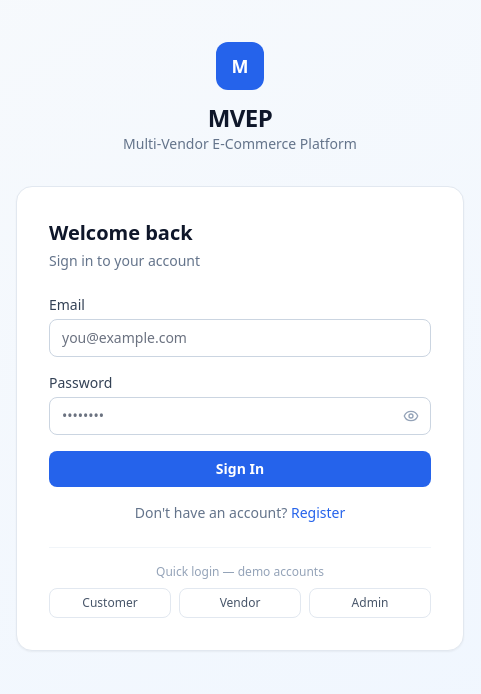
Test: LoginPage › shows API error message on wrong credentials
The image size is (481, 694).
Type "wrong@example.com" into the field with placeholder "you@example.com" at (240,338), box 49,318 -> 431,356
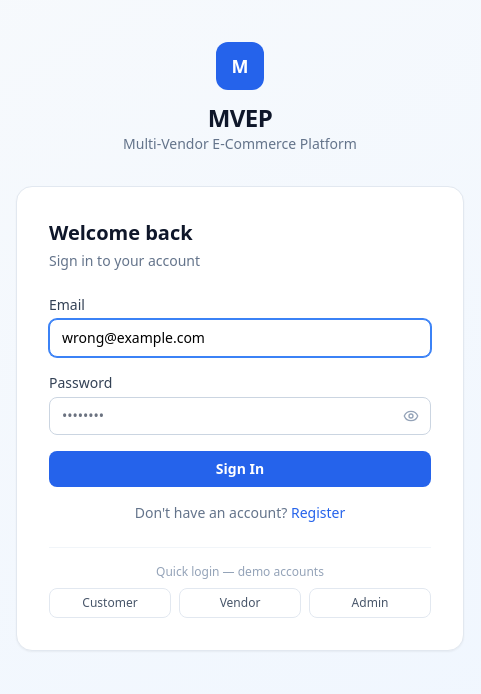
Type "wrongpassword" into the password field with placeholder "••••••••" at (240,416), box 49,396 -> 431,434
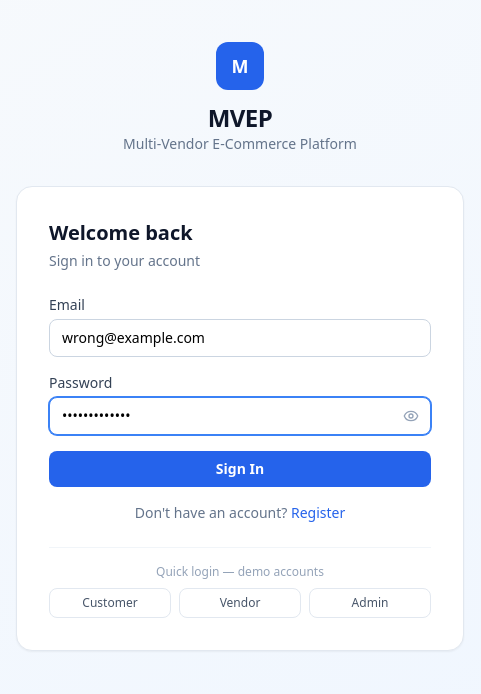
Click the button "Sign In" at (240,468), box 49,450 -> 431,486
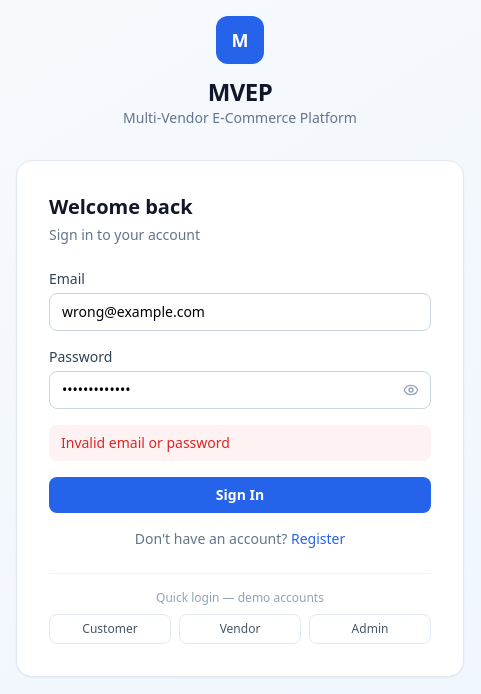
Expected: the text "Invalid email or password" is shown, 49,424 -> 431,460
